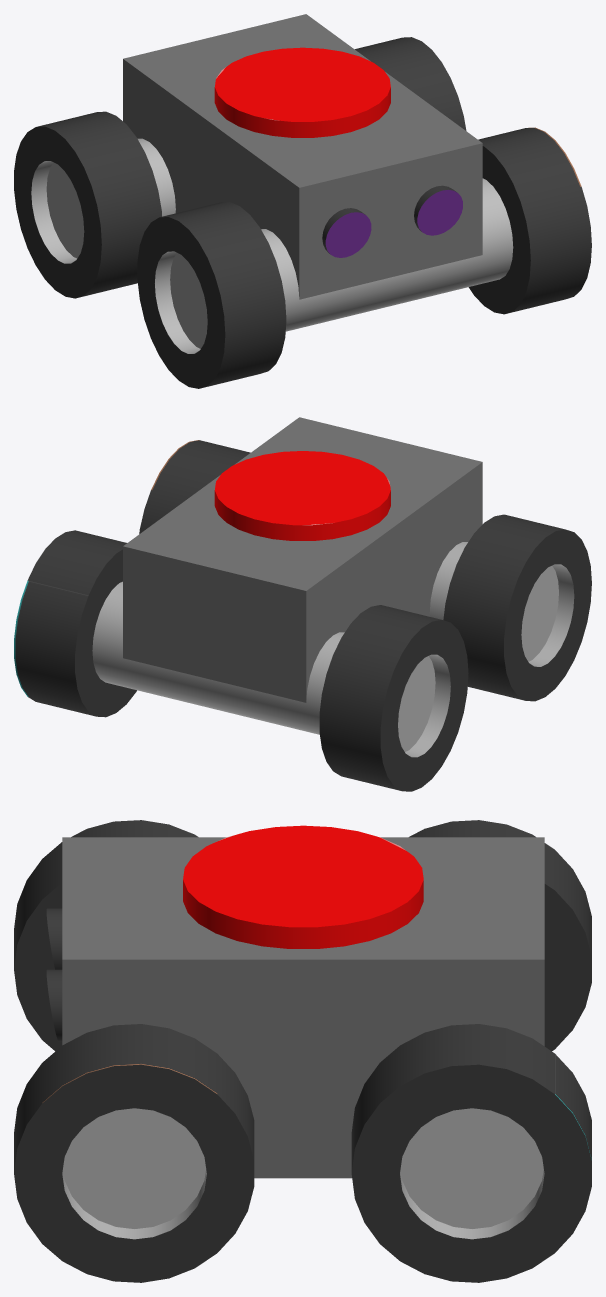
File: TankyWheels.fbx
3 renders of one model, top to bottom at view 1: azimuth 30°, elevation 25°; view 2: azimuth 150°, elevation 25°; view 3: azimuth 270°, elevation 25°, orthographic. The views are drawn at different scales.
Visible parts, largest first — view 1: Wheels v2; view 2: Wheels v2; view 3: Wheels v2.
Boxes of the visible parts, left/top/right/bottom form: Wheels v2: left=14, top=14, right=591, bottom=388; Wheels v2: left=14, top=417, right=591, bottom=791; Wheels v2: left=14, top=820, right=591, bottom=1282.
Bounding box in the file's own units: 120 × 64.96 × 120.
